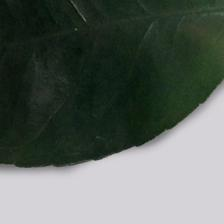healthy: (1, 2, 224, 178)
